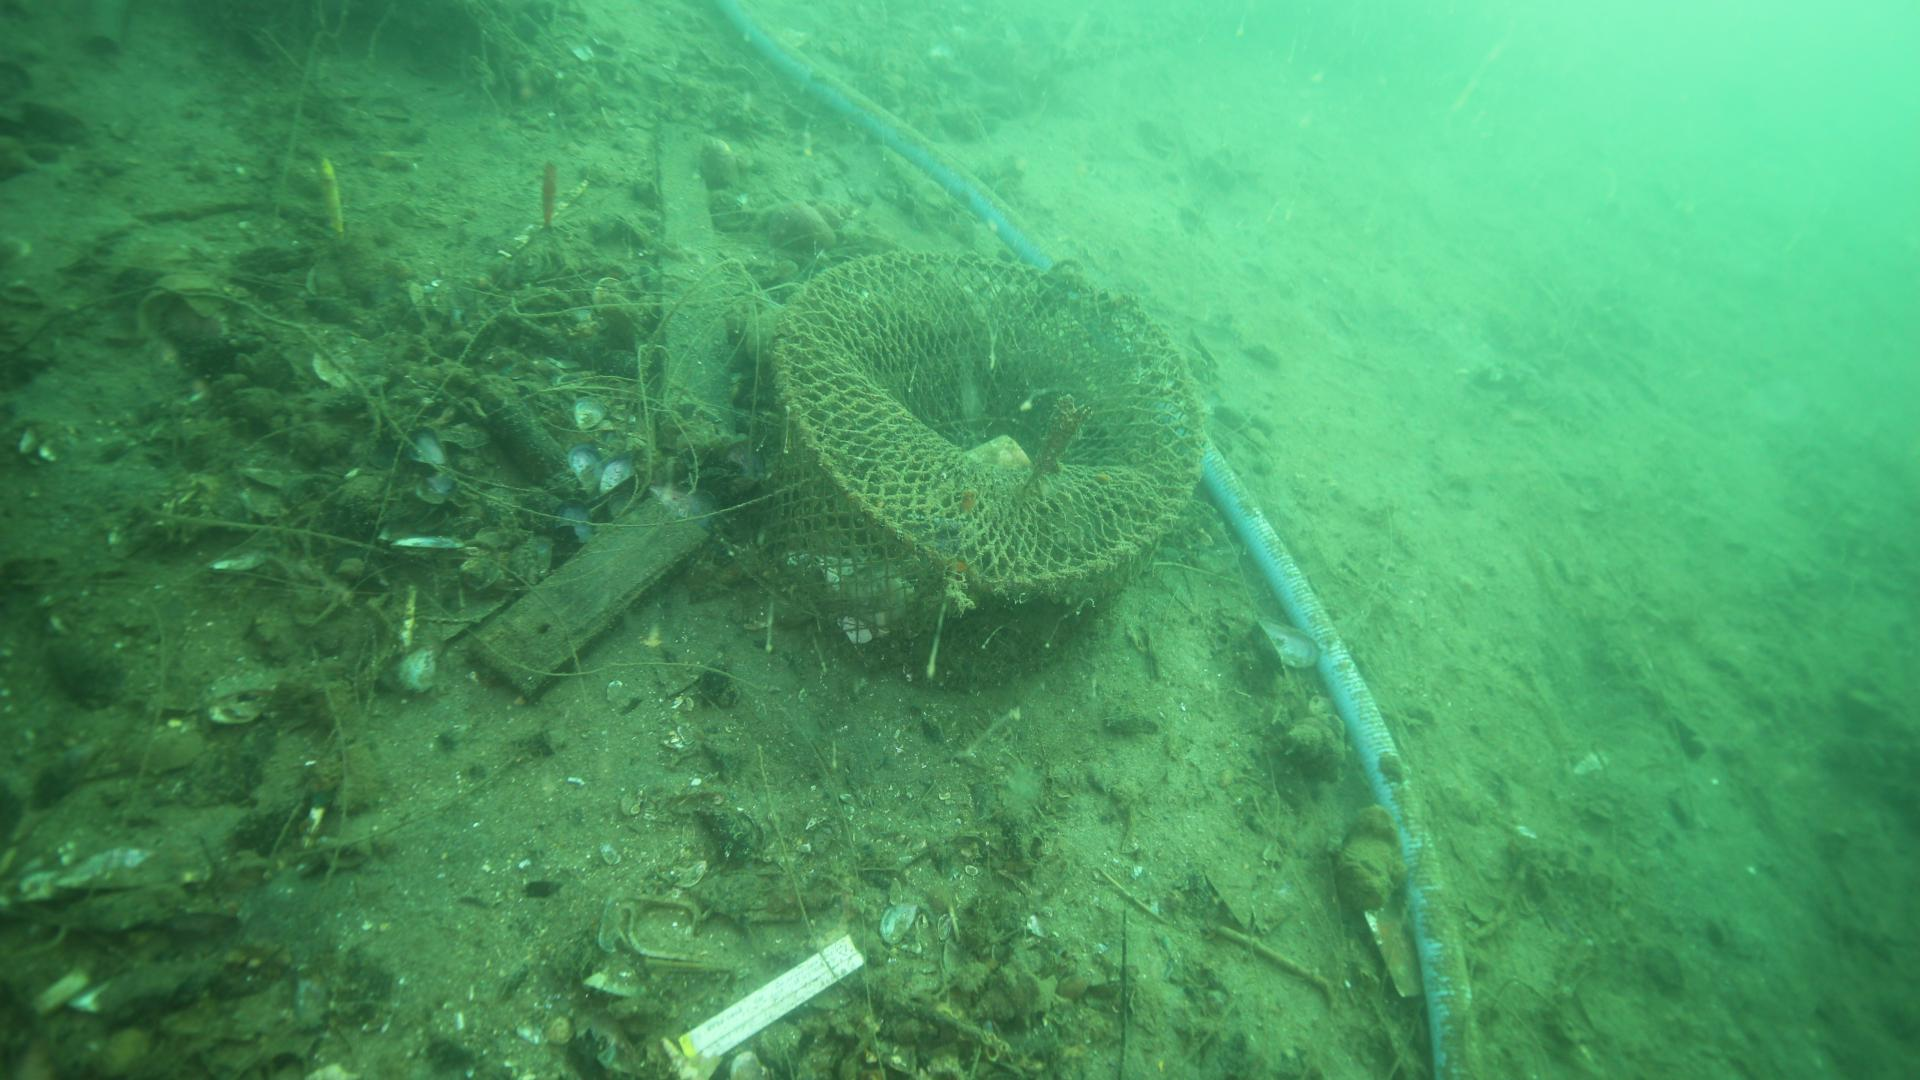circular fish trap: (738, 243, 1220, 684)
wood: (462, 491, 719, 707), (647, 117, 738, 447)
